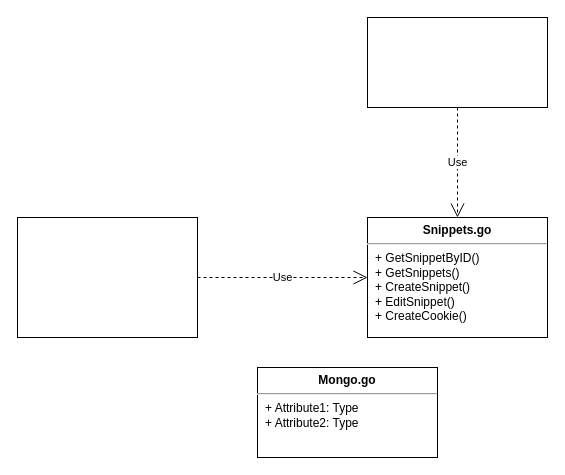
Some shapes in this 565 by 475 pixel diagram are drawn without their labels. The shapes that lost their labels are listed below. From the top down, each one's centre as x and y in pixels, then its label:
At point 457,62: "Gin".
At point 107,277: "SnippetModel.go + ID: String + Title: String + Content: String + Biscuit: string".
